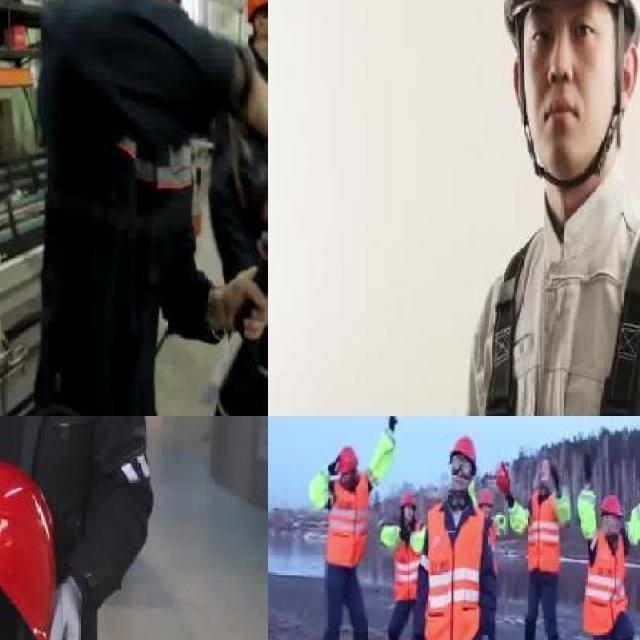apron: (31, 568, 85, 640), (584, 454, 593, 486), (387, 416, 398, 431), (555, 474, 561, 492), (506, 492, 514, 504)
